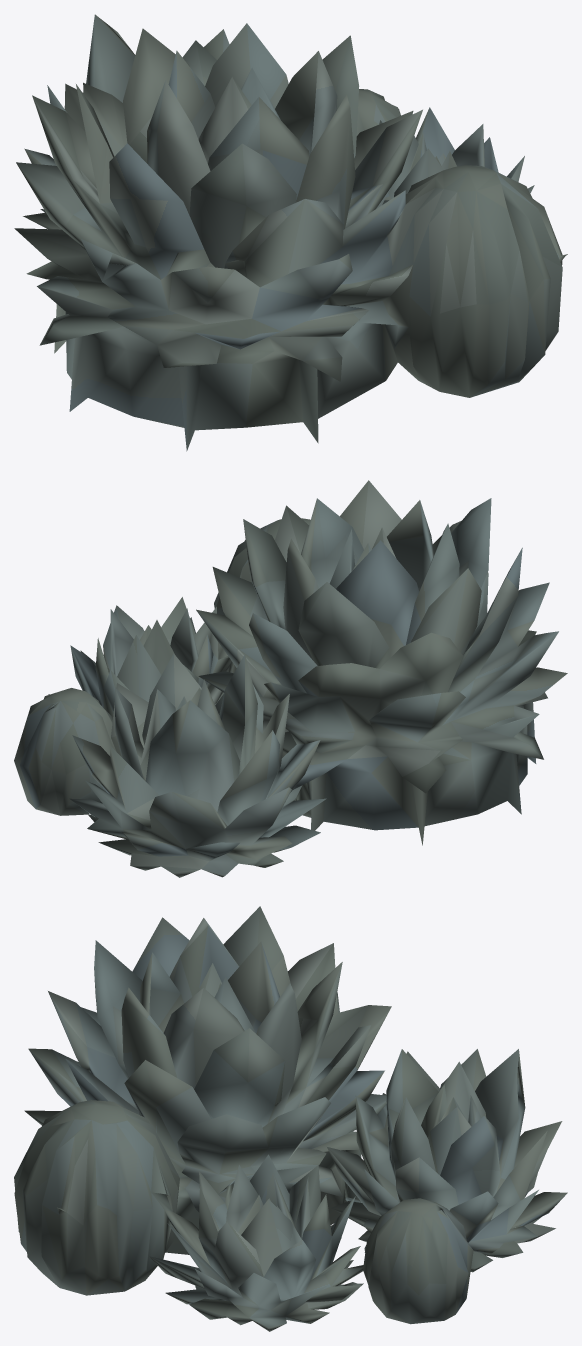
The model's file is agave_cluster.glb.
3 views of the same model, one above another, from view 1: azimuth 30°, elevation 25°; view 2: azimuth 150°, elevation 25°; view 3: azimuth 270°, elevation 25° (orthographic). The views are drawn at different scales.
Visible parts, largest first — view 1: LO.001; view 2: LO.001; view 3: LO.001.
Part boxes in pixels (x1,y1,x2,y2): LO.001: (14,14,567,451); LO.001: (14,480,567,877); LO.001: (14,906,567,1331).
Size of the model in its own units: 1.84 by 1.07 by 1.99.
Materials: 1 (1 with a texture image).
